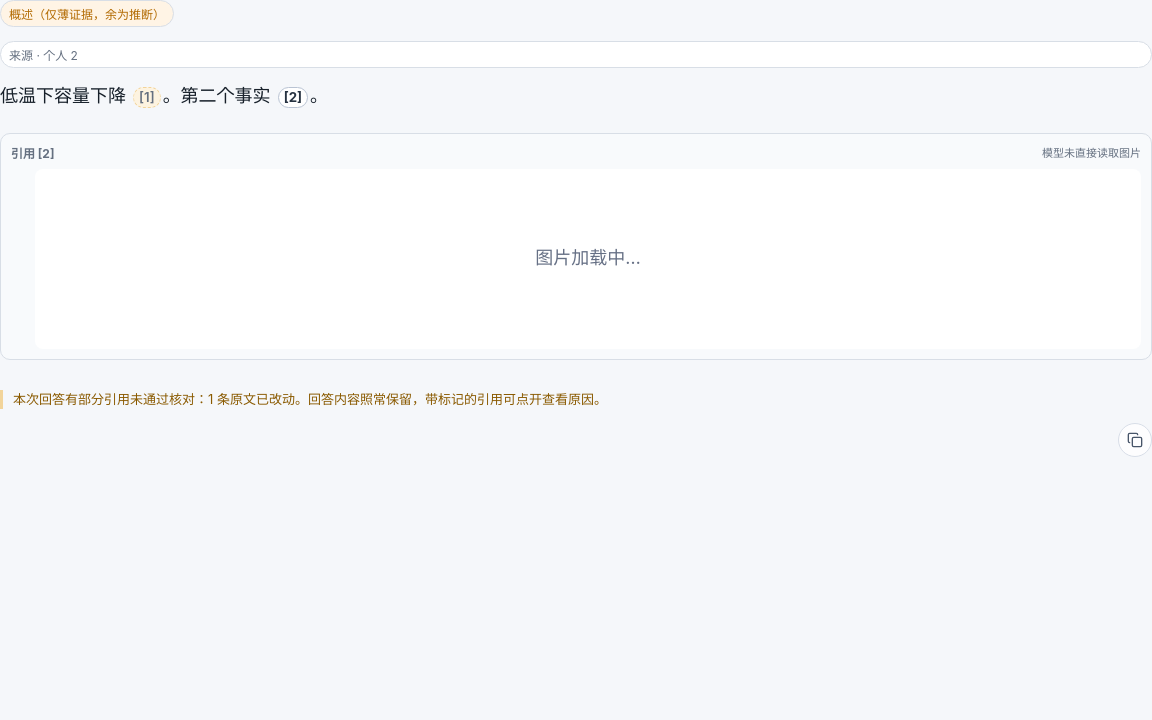
Test case: the flagged marker is muted, names its reason, and opens a card that keeps the excerpt but no way to the source
The width and height of the screenshot is (1152, 720).
Click the button named "[1] 未通过核对：原文已改动". click: click(147, 98)
box: [133, 87, 161, 108]
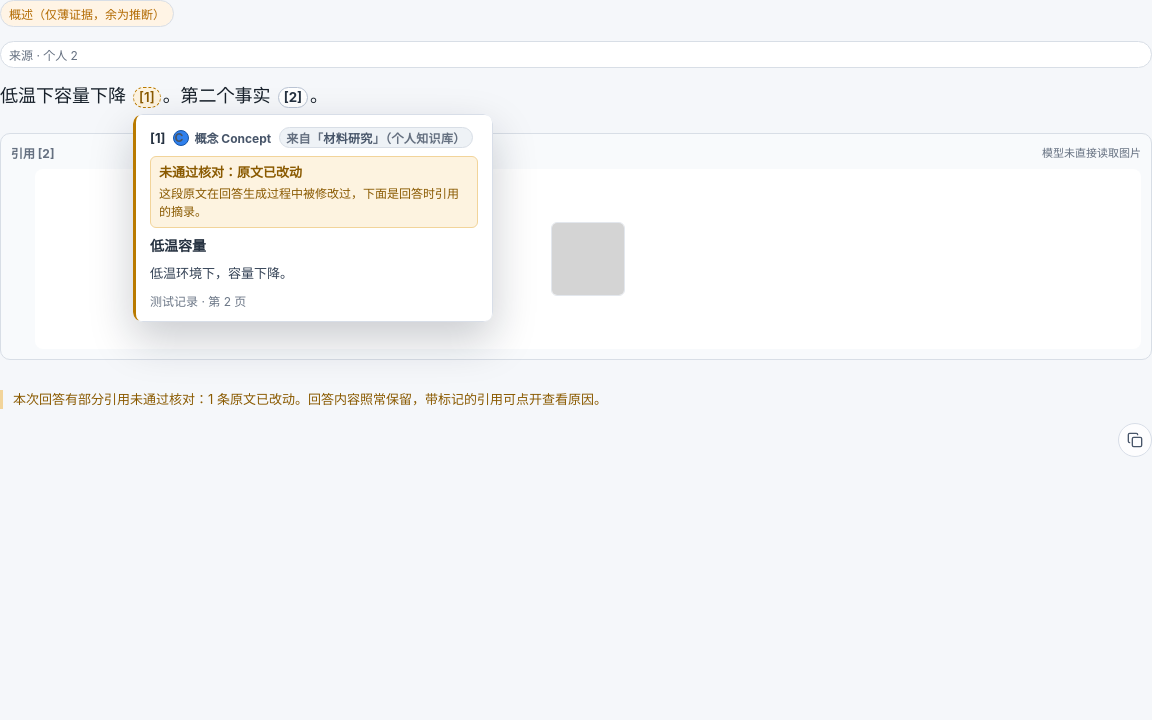
Result: the element showing "未通过核对：原文已改动 这段原文在回答生成过程中被修改过，下面是回答时引用的摘录。" is shown at [150, 156, 478, 228]
Result: the dialog shows "低温环境下，容量下降。" at [150, 265, 293, 281]
Result: the dialog shows "测试记录 · 第 2 页" at [150, 294, 246, 309]
